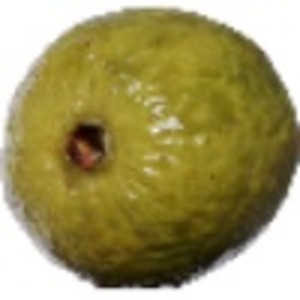goiaba: (5, 5, 296, 289)
